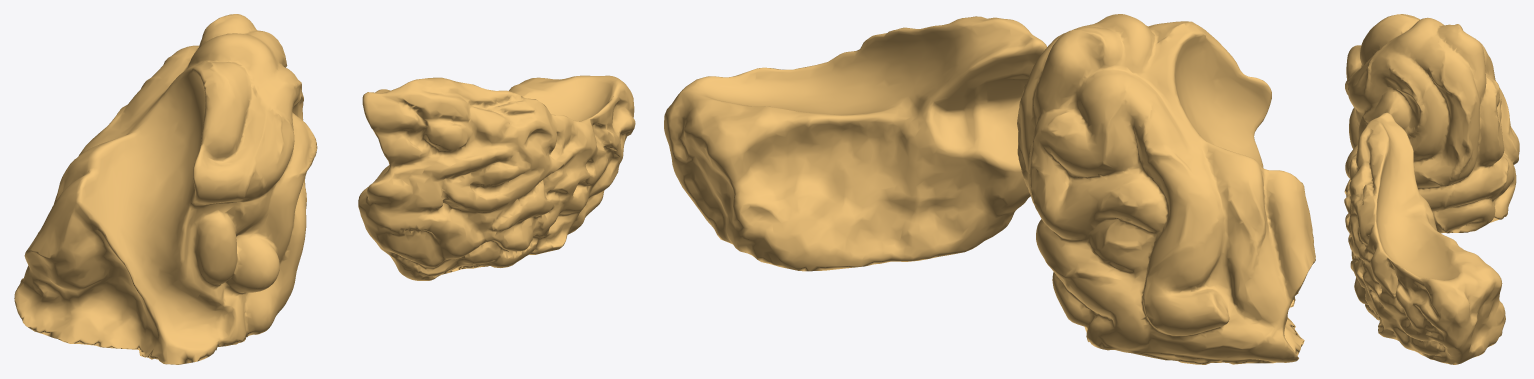
The model's file is frog_stomach.glb.
The picture shows the model from 3 angles, left to right: view 1: azimuth 30°, elevation 25°; view 2: azimuth 150°, elevation 25°; view 3: azimuth 270°, elevation 25°; orthographic projection. The views are drawn at different scales.
Parts seen in each view (by area): view 1: frog_stomach; view 2: frog_stomach; view 3: frog_stomach.
Part boxes in pixels (bbox=[...]): frog_stomach: bbox=[14, 14, 635, 364]; frog_stomach: bbox=[664, 14, 1315, 364]; frog_stomach: bbox=[1344, 14, 1519, 364].
Size of the model in its own units: 1.5 by 0.6309 by 0.4931.
